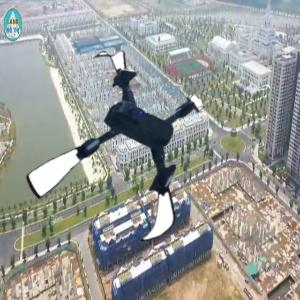drone: (26, 58, 216, 248)
